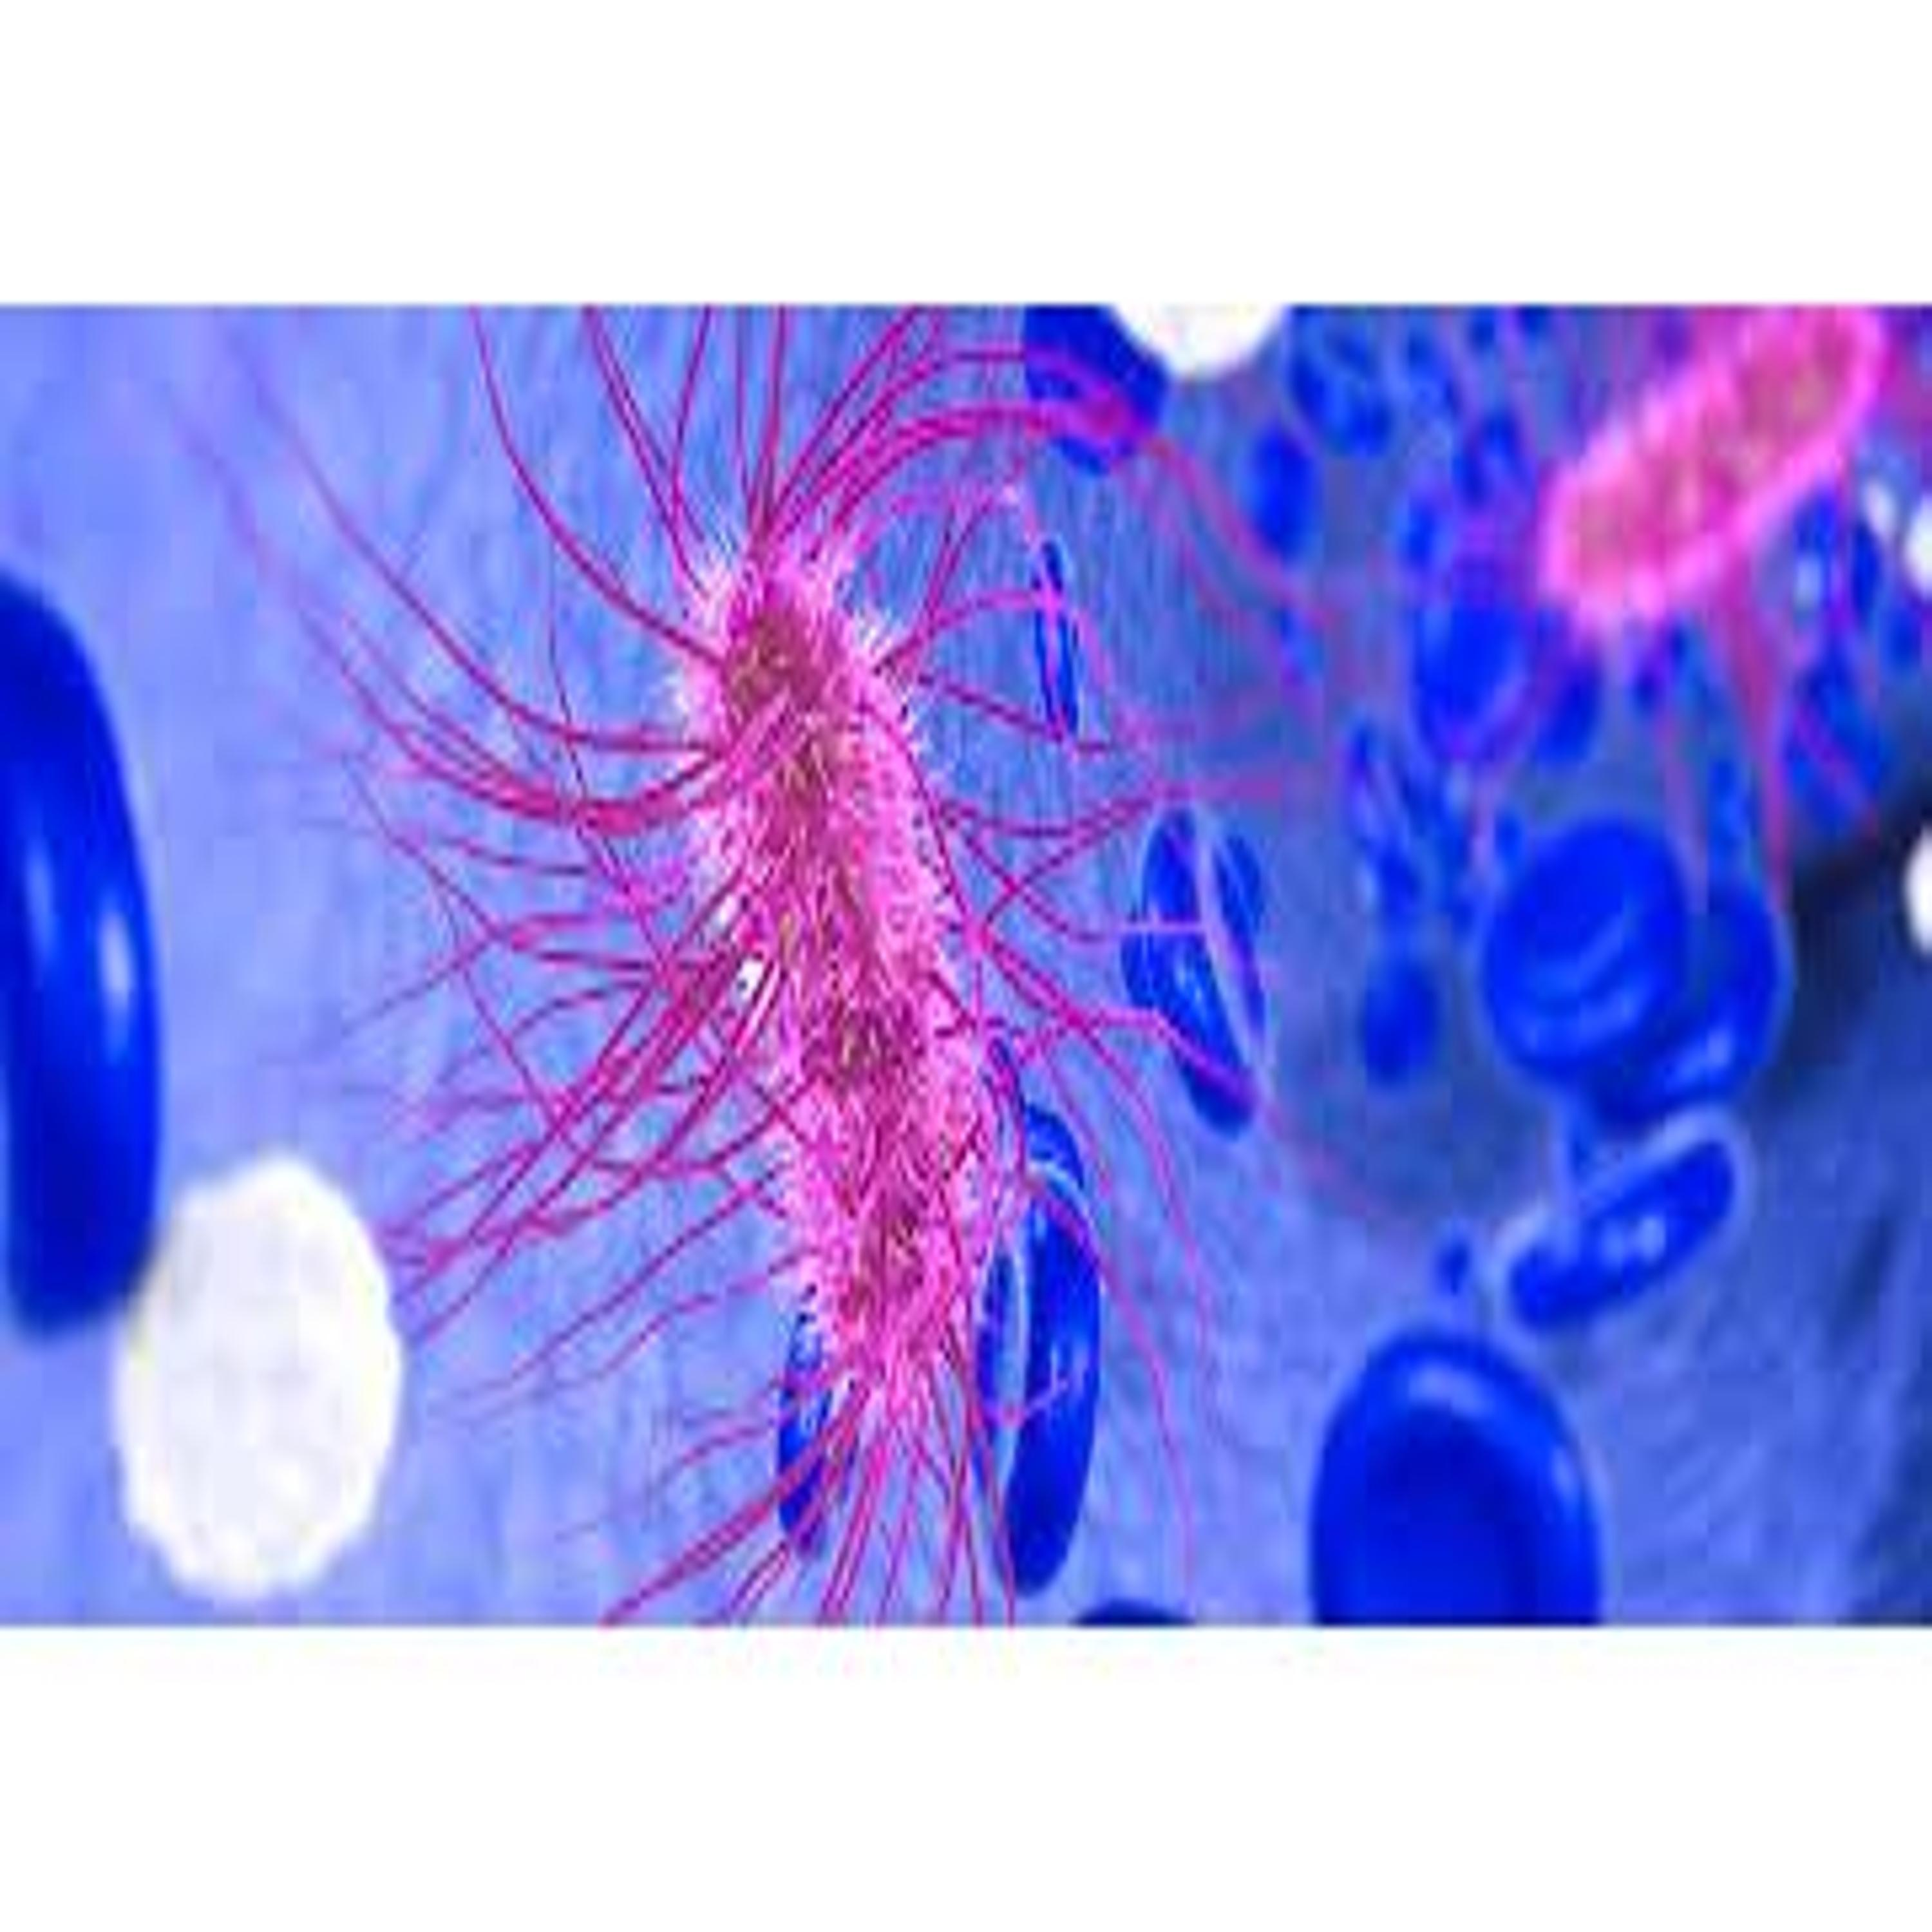e.coli5: (616, 525, 1364, 1829), (104, 566, 770, 1568), (1037, 119, 1783, 922), (717, 111, 1008, 467)
